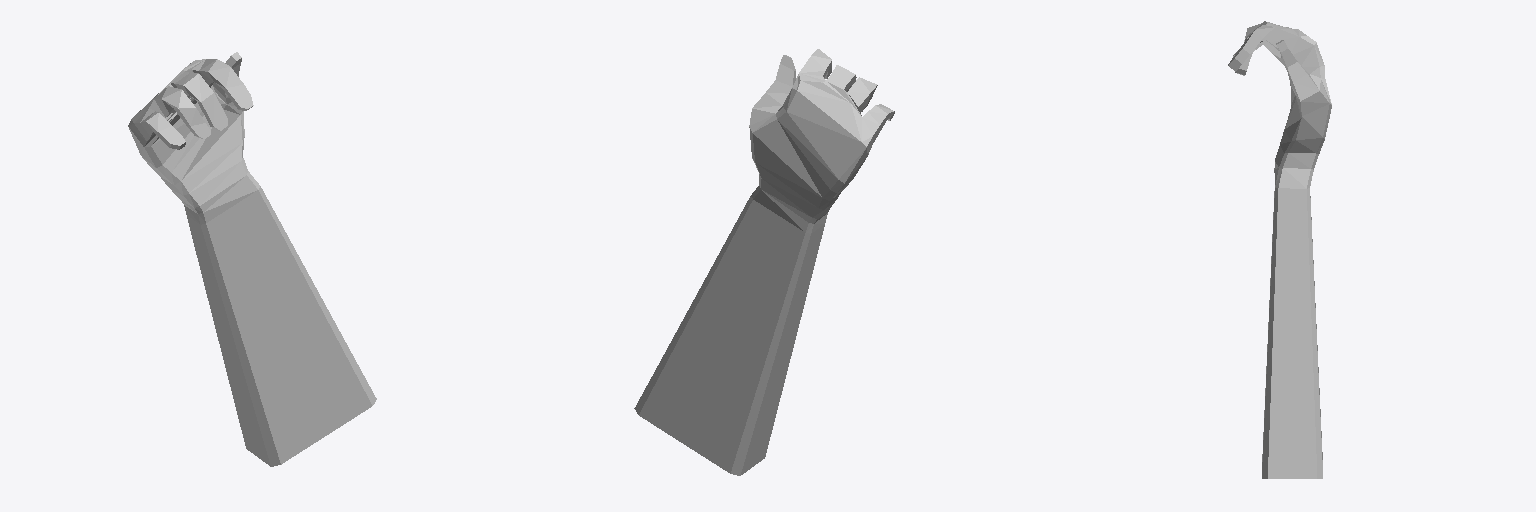
Rendered from hand_anim6.obj.
3 views of the same model, side by side, from view 1: azimuth 30°, elevation 25°; view 2: azimuth 150°, elevation 25°; view 3: azimuth 270°, elevation 25° (orthographic).
Visible parts, largest first — view 1: Cube.001; view 2: Cube.001; view 3: Cube.001.
Part boxes in pixels (x1,y1,x2,y2): Cube.001: (128, 52, 376, 466); Cube.001: (634, 49, 894, 475); Cube.001: (1228, 21, 1331, 478).
Bounding box in the file's own units: 1.68 × 2.91 × 0.66.